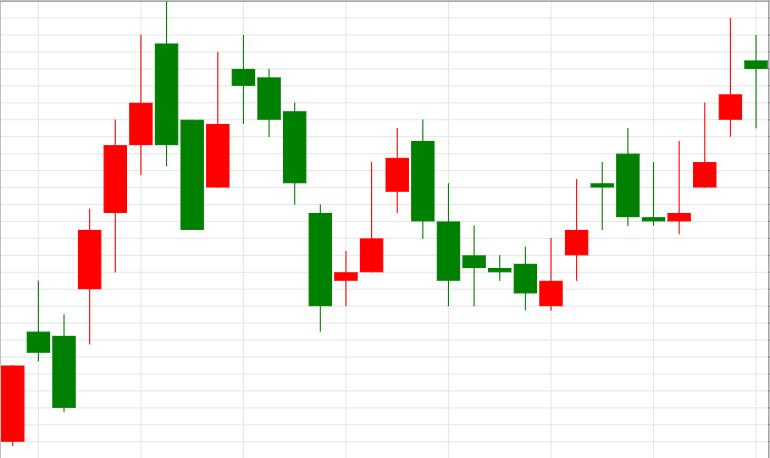bearish_engulfing_fall: (310, 121, 434, 332)
inverse_hammer_rise: (411, 120, 563, 311)
shooting_star_fall: (540, 16, 741, 311)
